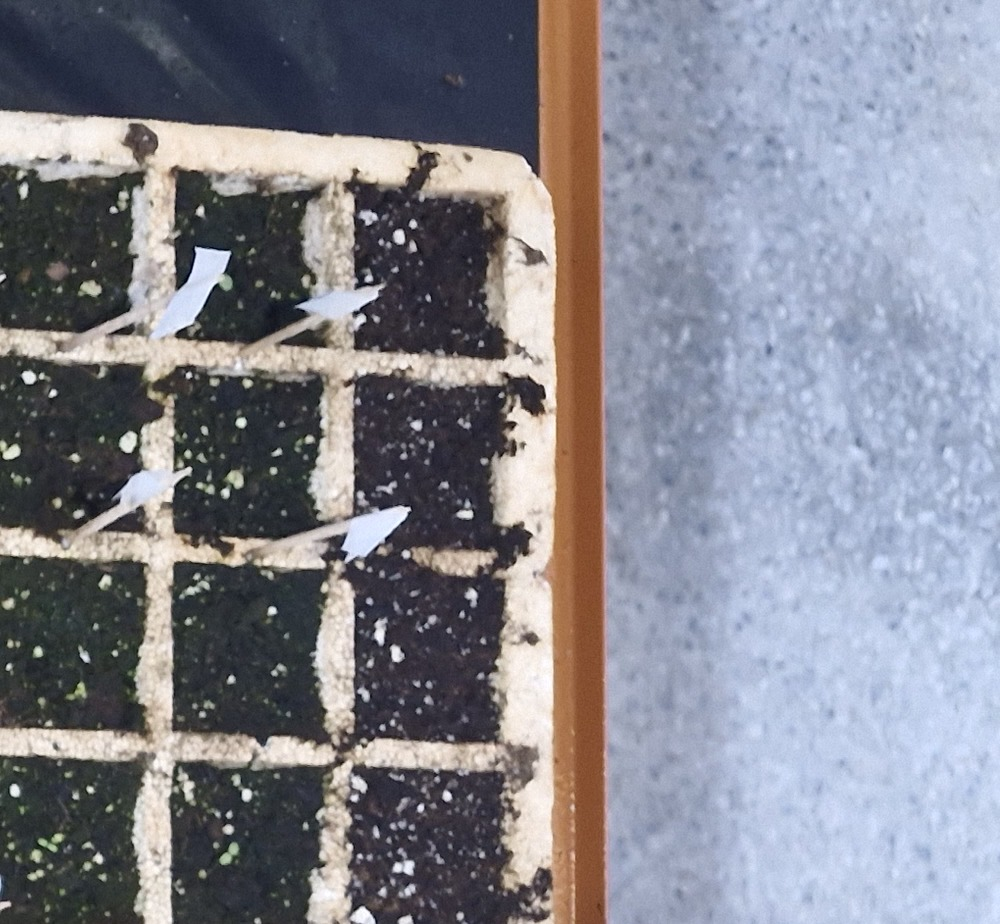Folha: (219, 852, 232, 865), (229, 842, 239, 855)
Germinacao: (219, 841, 241, 865)
